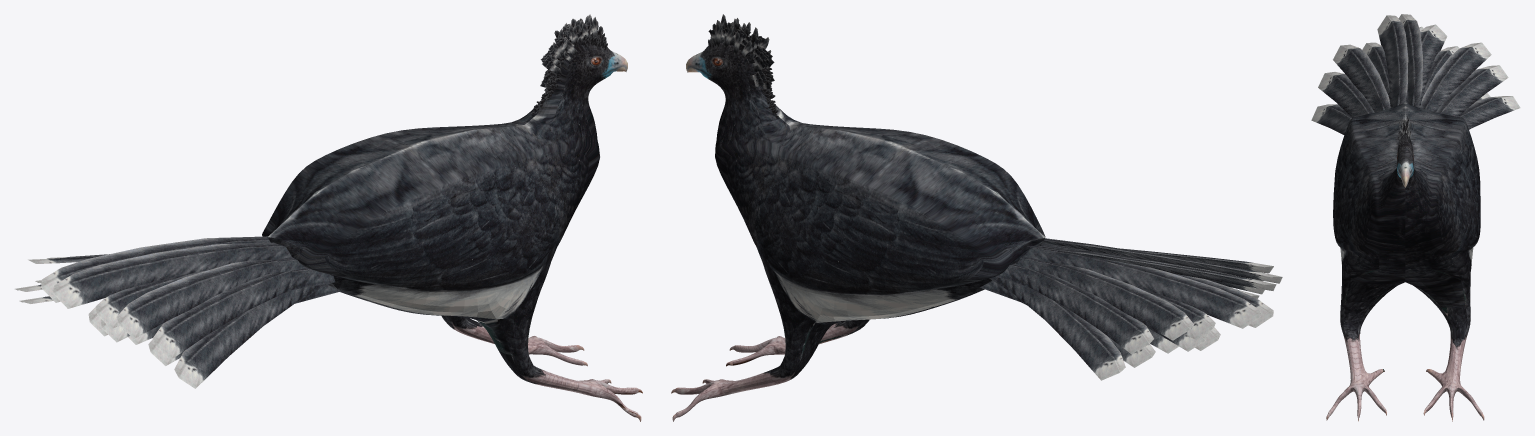
File: asset-paujil3low.glb
The picture shows the model from 3 angles, left to right: view 1: azimuth 30°, elevation 25°; view 2: azimuth 150°, elevation 25°; view 3: azimuth 270°, elevation 25°; orthographic projection. The views are drawn at different scales.
Visible parts, largest first — view 1: Vert.001, Plane.127, Plane.129, Plane.130, Plane.131, Plane.120, Plane.124, Plane.125, Plane.141, Plane.128, Plane.126; view 2: Vert.001, Plane.141, Plane.127, Plane.120, Plane.129; view 3: Vert.001, Plane.141, Plane.127, Plane.129, Plane.130, Plane.120, Plane.131, Plane.124.
Boxes of the visible parts, bbox=[...] form: Vert.001: bbox=[262, 41, 642, 421]; Plane.127: bbox=[53, 242, 291, 308]; Plane.129: bbox=[116, 259, 278, 338]; Plane.130: bbox=[152, 271, 294, 359]; Plane.131: bbox=[174, 283, 330, 388]; Plane.120: bbox=[41, 236, 270, 302]; Plane.124: bbox=[95, 270, 208, 329]; Plane.125: bbox=[128, 266, 335, 344]; Plane.141: bbox=[15, 254, 109, 303]; Plane.128: bbox=[100, 257, 304, 342]; Plane.126: bbox=[148, 285, 340, 365]; Vert.001: bbox=[671, 42, 1045, 421]; Plane.141: bbox=[980, 245, 1273, 380]; Plane.127: bbox=[1042, 238, 1282, 283]; Plane.120: bbox=[1027, 245, 1276, 290]; Plane.129: bbox=[1041, 243, 1273, 273]; Vert.001: bbox=[1326, 102, 1484, 421]; Plane.141: bbox=[1388, 24, 1520, 129]; Plane.127: bbox=[1377, 15, 1408, 107]; Plane.129: bbox=[1333, 44, 1390, 112]; Plane.130: bbox=[1318, 72, 1374, 117]; Plane.120: bbox=[1398, 14, 1422, 107]; Plane.131: bbox=[1311, 104, 1351, 135]; Plane.124: bbox=[1362, 42, 1389, 94].
Size of the model in its own units: 3.87 by 2.29 by 1.46.
Materials: 1 (1 with a texture image).
